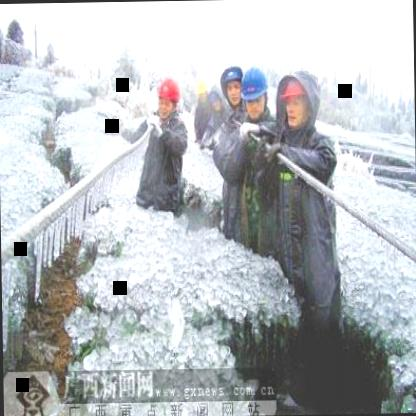helmet: (276, 72, 312, 130), (240, 62, 271, 121), (219, 61, 247, 108), (156, 74, 181, 119), (194, 78, 210, 104)
